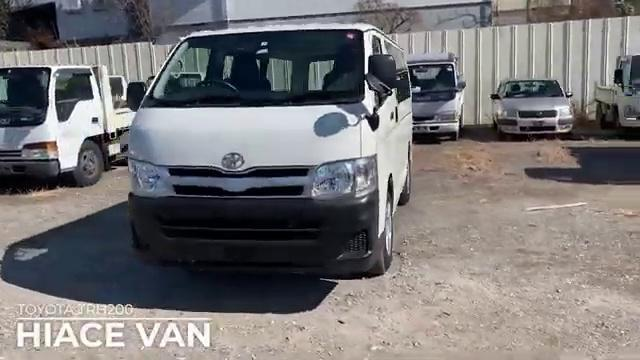van: (136, 18, 419, 274)
